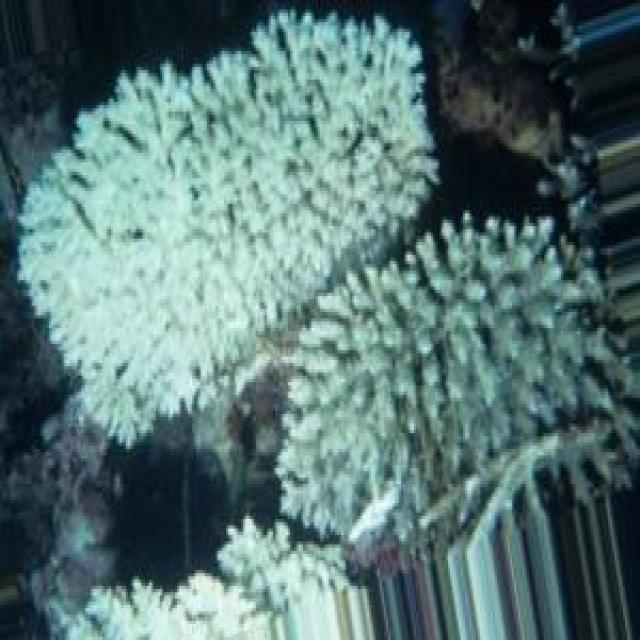bleached coral: (60, 280, 175, 443), (162, 239, 318, 328), (463, 232, 608, 312), (53, 111, 183, 194), (196, 80, 335, 150), (282, 465, 369, 548), (299, 357, 393, 433), (23, 153, 96, 245), (55, 478, 115, 589), (437, 423, 521, 494), (169, 554, 279, 608), (341, 181, 412, 261), (418, 306, 478, 382), (346, 29, 412, 96)
